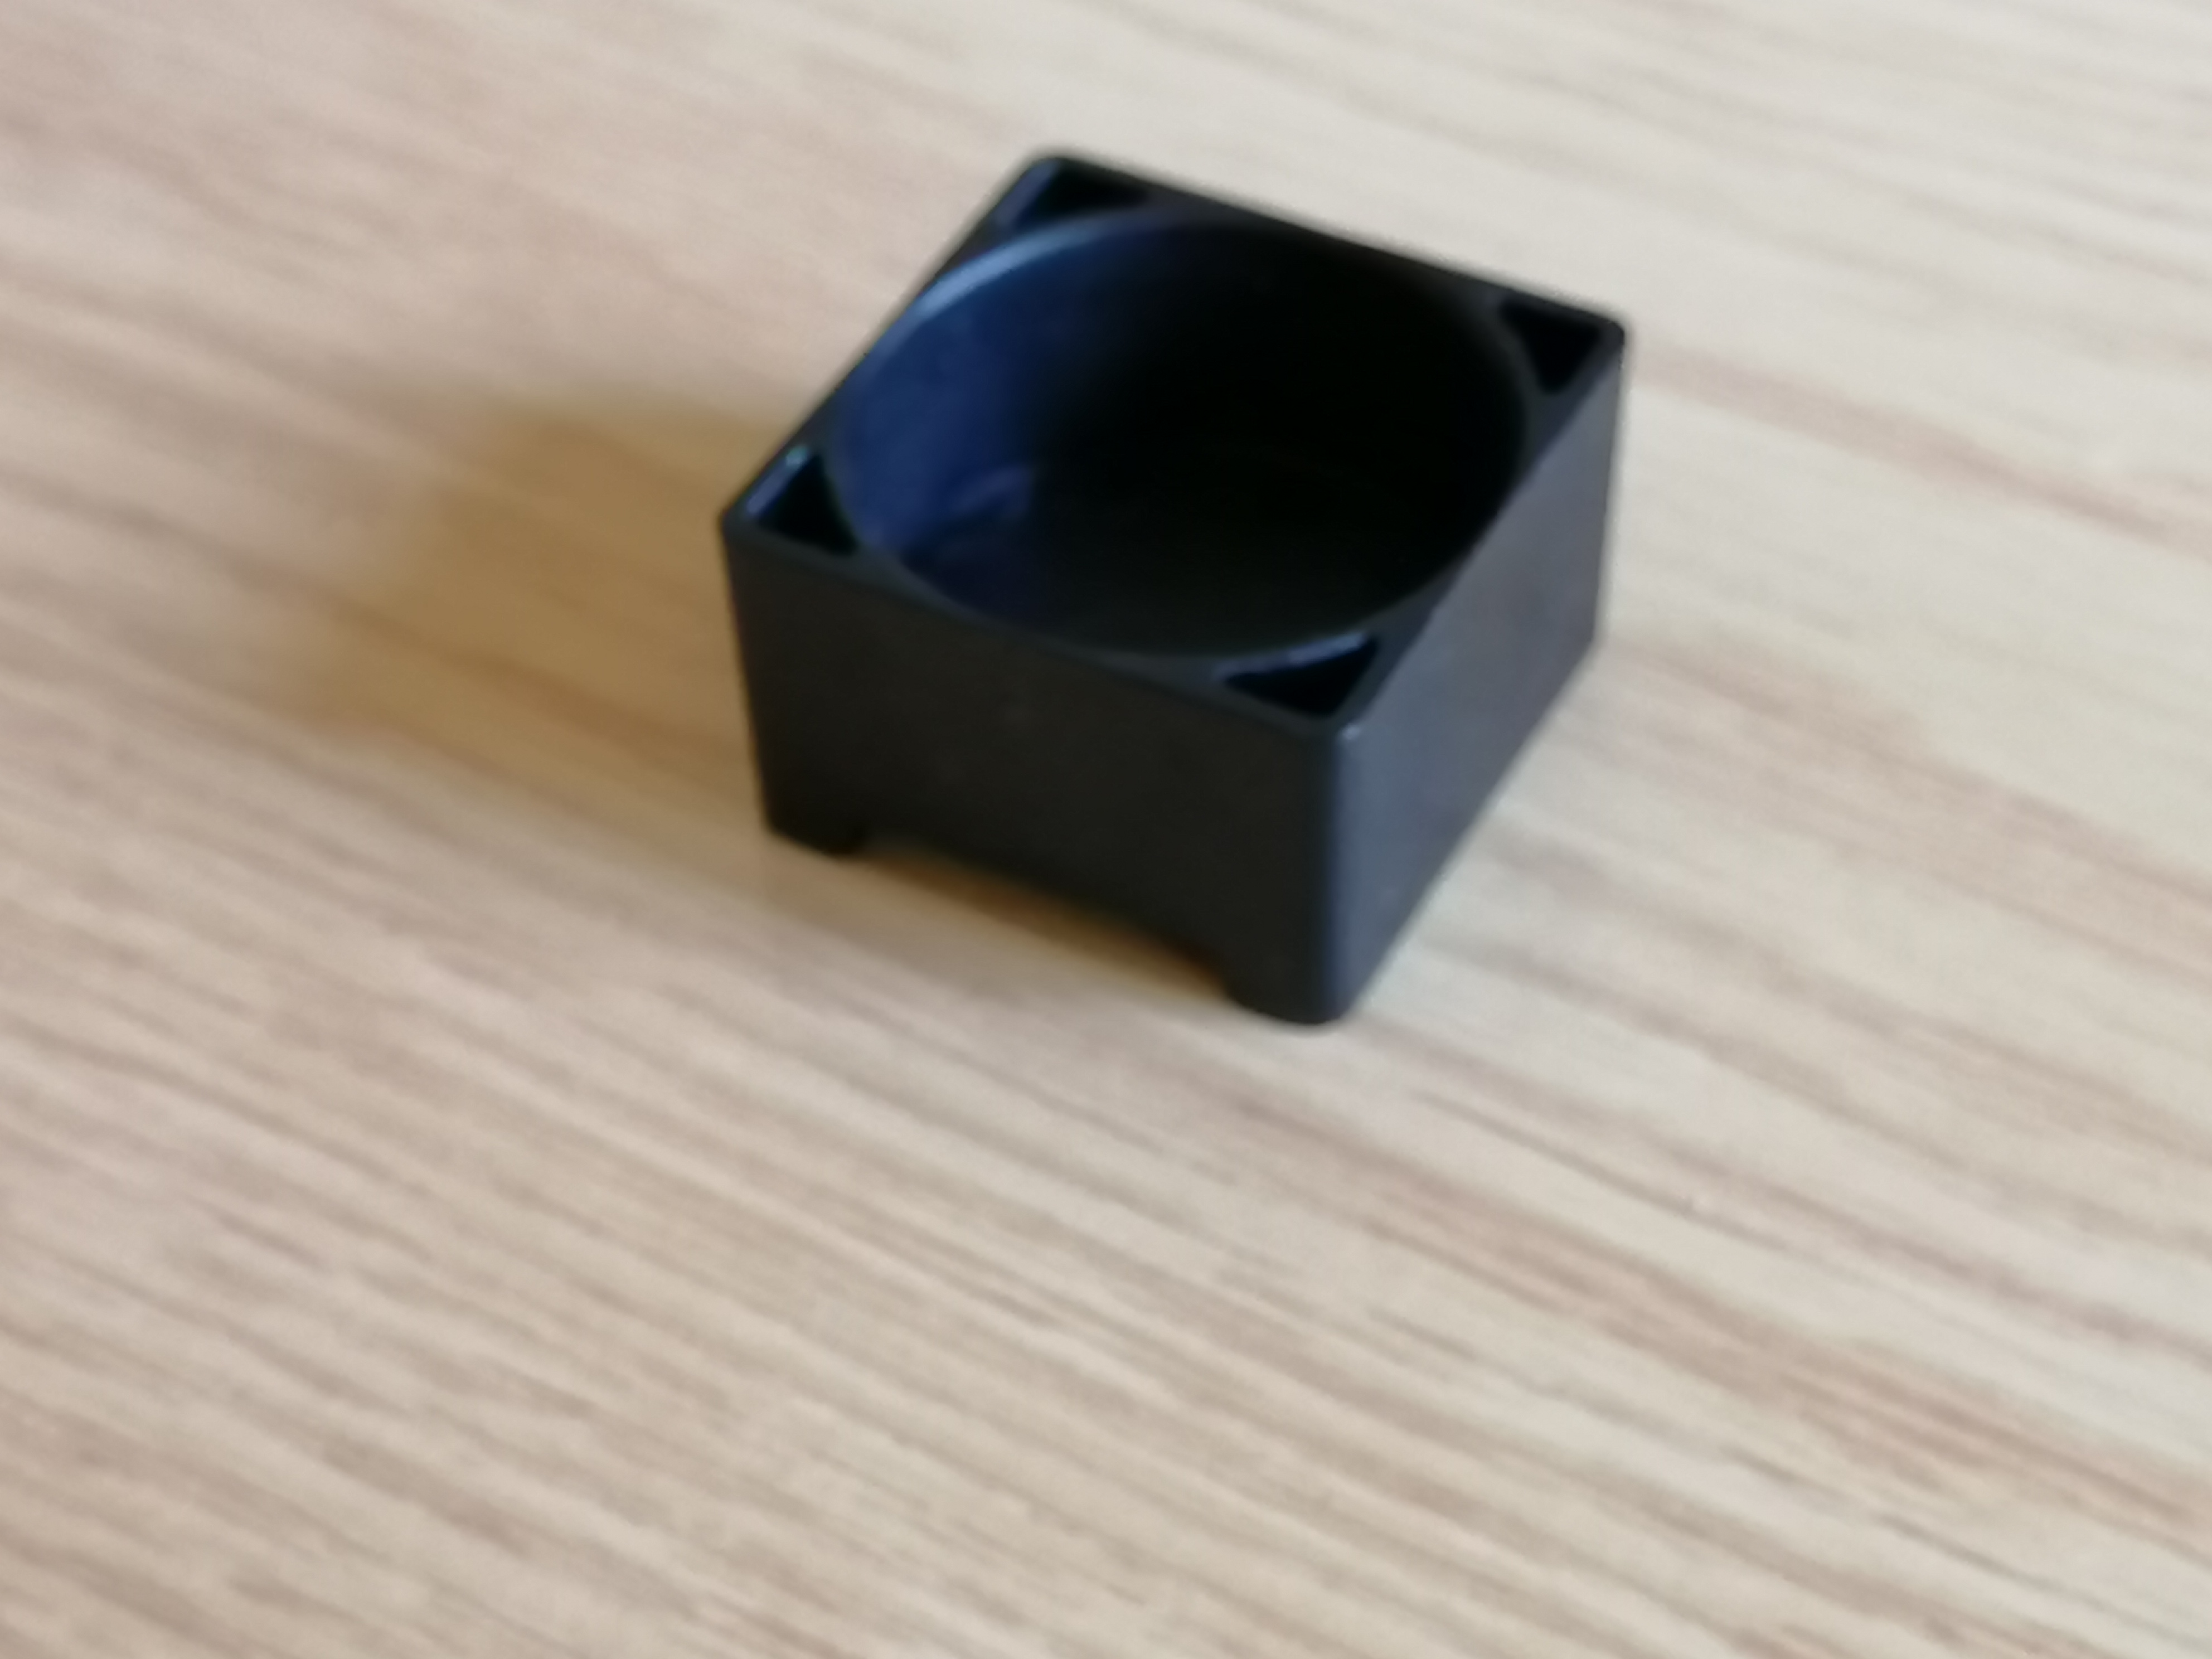Behaelter: (718, 146, 1627, 1035)
